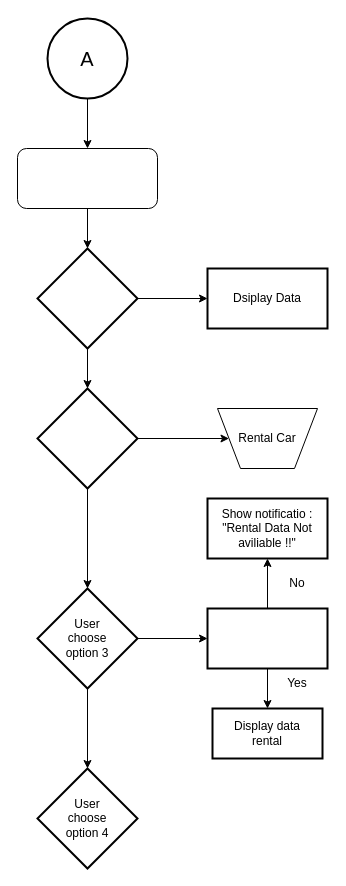
Some shapes in this 346 by 886 pixel diagram are drawn without their labels. Each missing label, with the centre of its shape:
"Display Data Rental Does data exist ?" belongs at point 267,638.
"Show Display Data Menu" belongs at point 87,178.
"User choose option 1" belongs at point 87,298.
"User choose option 2" belongs at point 87,438.
